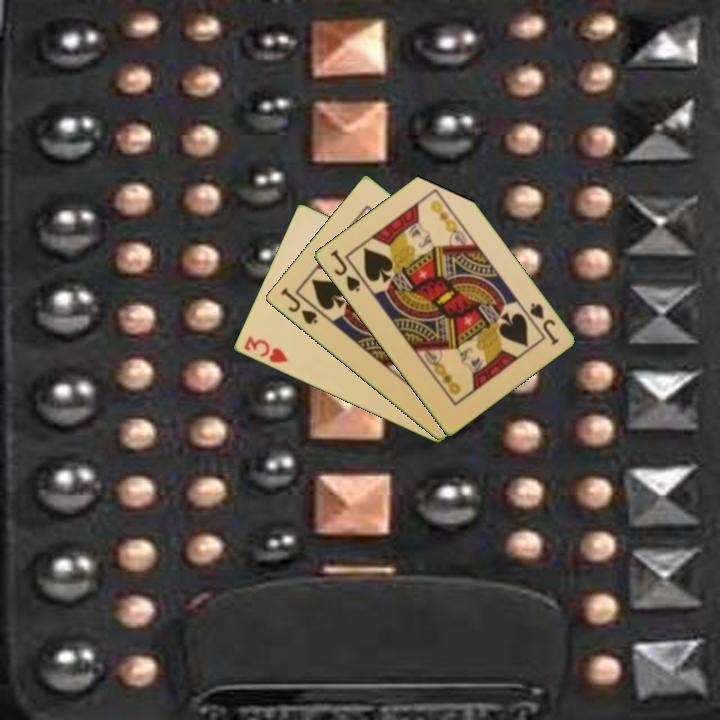3h: (240, 332, 291, 366)
Js: (277, 284, 320, 327), (326, 246, 363, 295), (525, 299, 561, 348)
